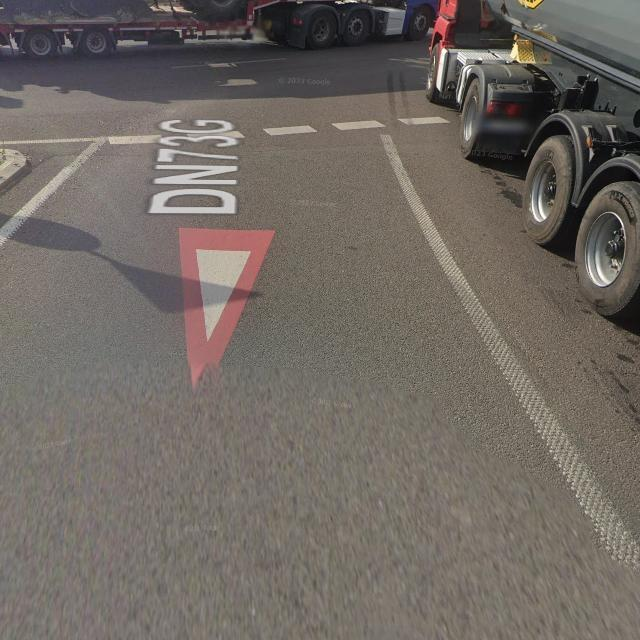prio_give_way: (179, 225, 278, 393)
